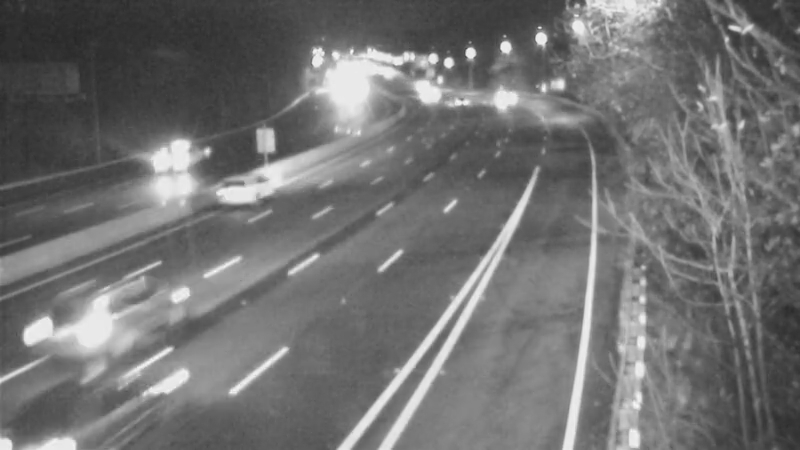vehicle: (28, 272, 138, 382), (30, 351, 140, 450), (187, 148, 267, 228), (131, 120, 211, 200), (396, 60, 446, 110), (473, 70, 523, 120), (404, 68, 454, 118), (428, 76, 478, 126)
